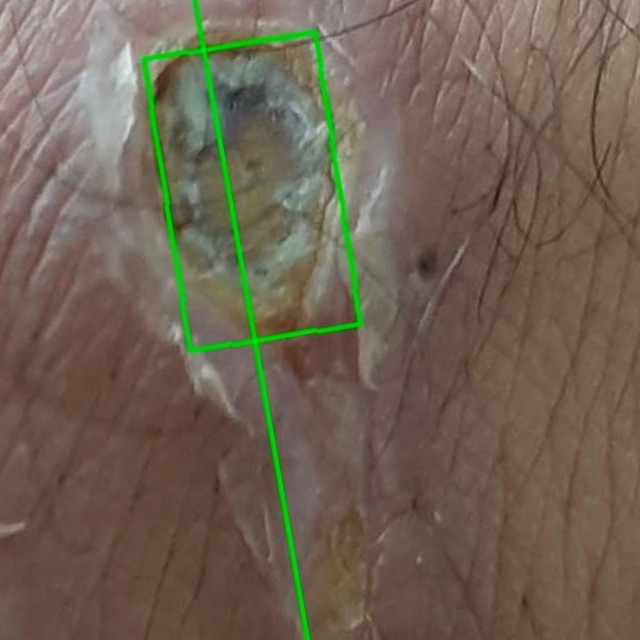Contact Dermatitis: (0, 0, 306, 639), (143, 32, 360, 350)
